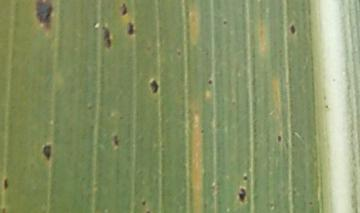tarspot: (35, 1, 52, 28), (100, 24, 111, 48), (41, 141, 52, 159), (148, 77, 159, 93), (125, 20, 135, 35), (238, 186, 247, 202), (288, 22, 297, 35), (121, 2, 128, 15), (112, 133, 119, 145), (275, 133, 283, 143), (3, 176, 8, 189), (87, 103, 95, 111), (140, 198, 147, 206), (198, 127, 206, 134), (206, 77, 213, 85), (176, 48, 182, 57), (221, 17, 227, 26), (308, 197, 314, 206), (269, 202, 276, 209), (242, 173, 248, 181), (323, 103, 330, 109), (1, 206, 6, 213)
